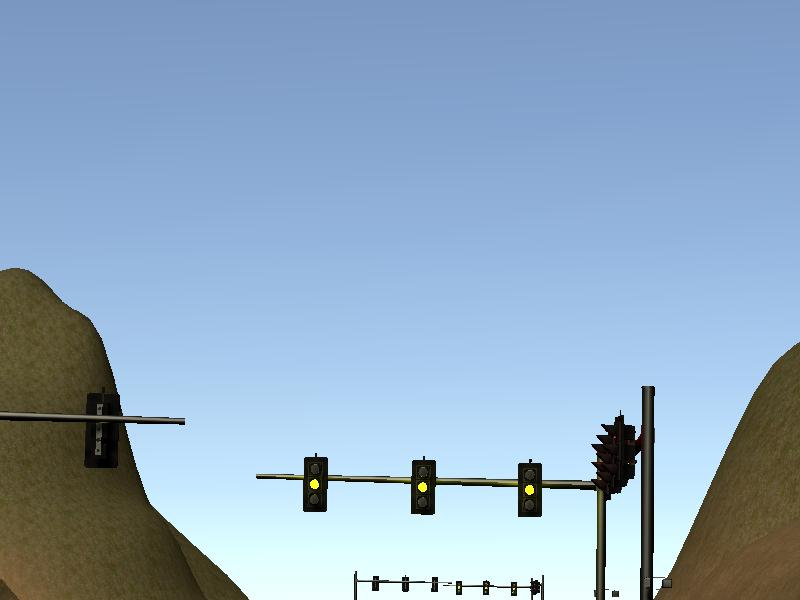Yellow: (302, 457, 327, 513), (412, 458, 436, 513), (519, 464, 541, 517)
